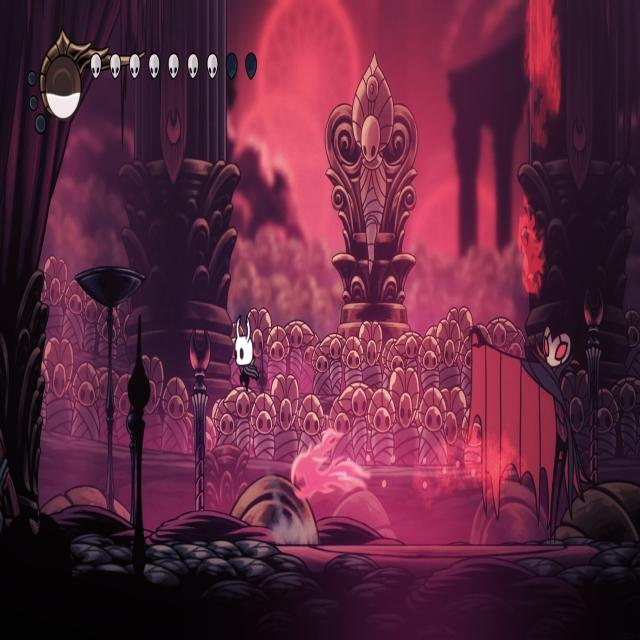Fire Bat: (294, 424, 363, 500)
Open Cloak: (466, 298, 592, 547)
Player: (231, 308, 263, 396)
